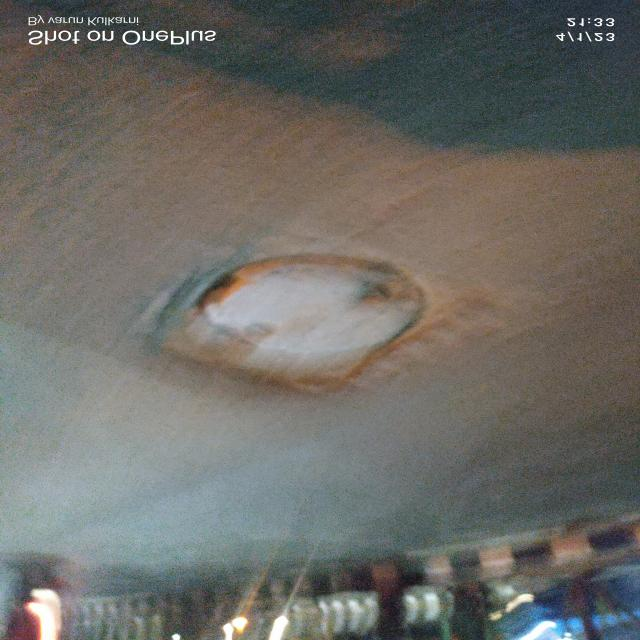manhole: (163, 245, 433, 392)
